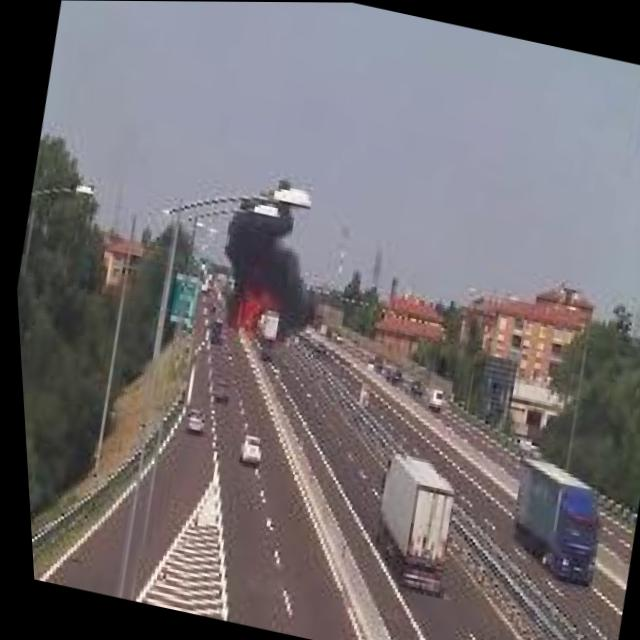fire: (220, 271, 283, 340)
